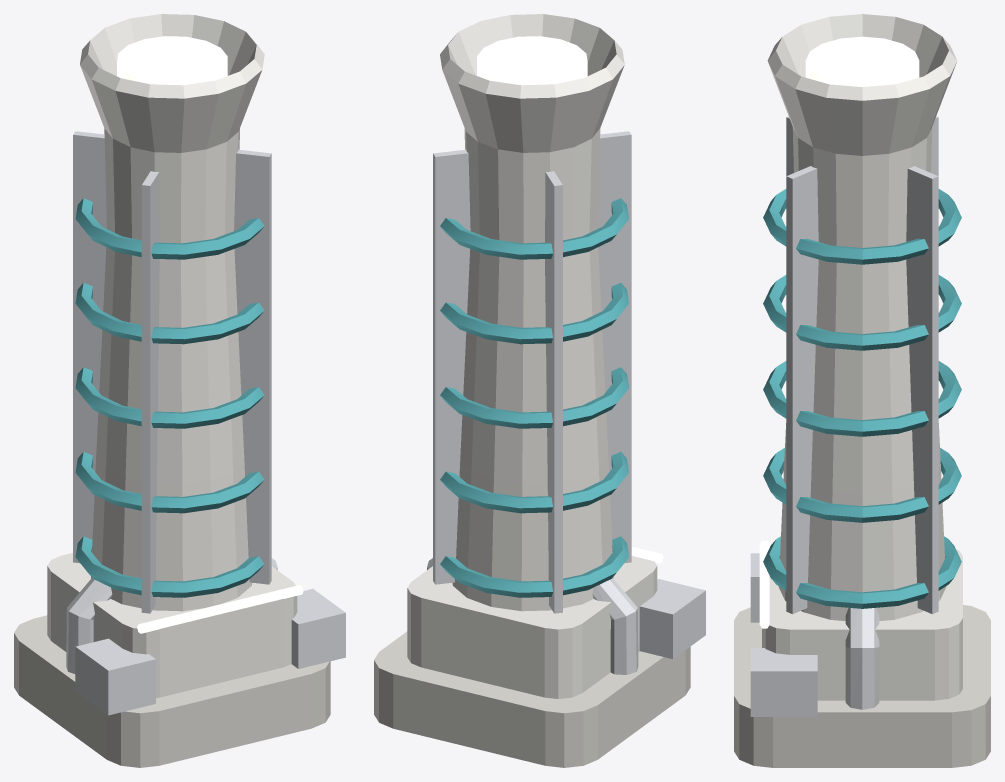
Rendered from arcology-towers-and-skyways-fusion-vent-stack-b8b50014__23274.glb.
The picture shows the model from 3 angles, left to right: view 1: azimuth 30°, elevation 25°; view 2: azimuth 150°, elevation 25°; view 3: azimuth 270°, elevation 25°; orthographic projection.
Visible parts, largest first — view 1: fusion-vent-stack; view 2: fusion-vent-stack; view 3: fusion-vent-stack.
Boxes of the visible parts, left/top/right/bottom form: fusion-vent-stack: left=14, top=14, right=345, bottom=767; fusion-vent-stack: left=374, top=14, right=705, bottom=767; fusion-vent-stack: left=734, top=14, right=990, bottom=767.
Size of the model in its own units: 5 by 13.1 by 4.6.
